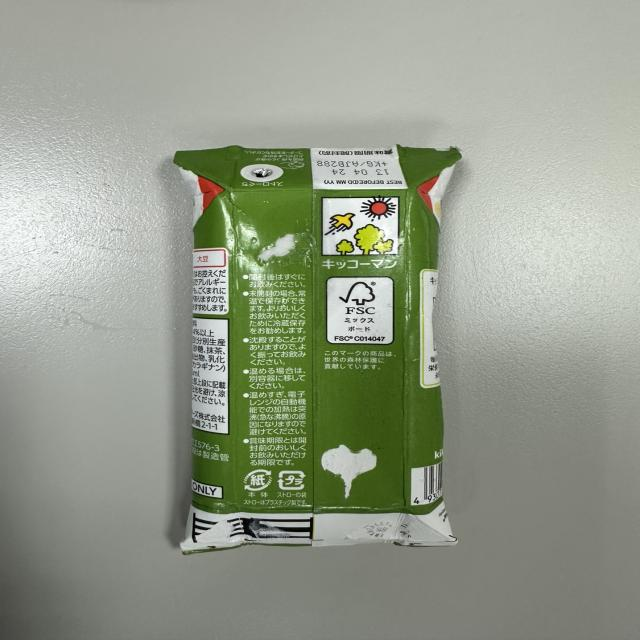Aluminium Foil: (174, 145, 455, 554)
